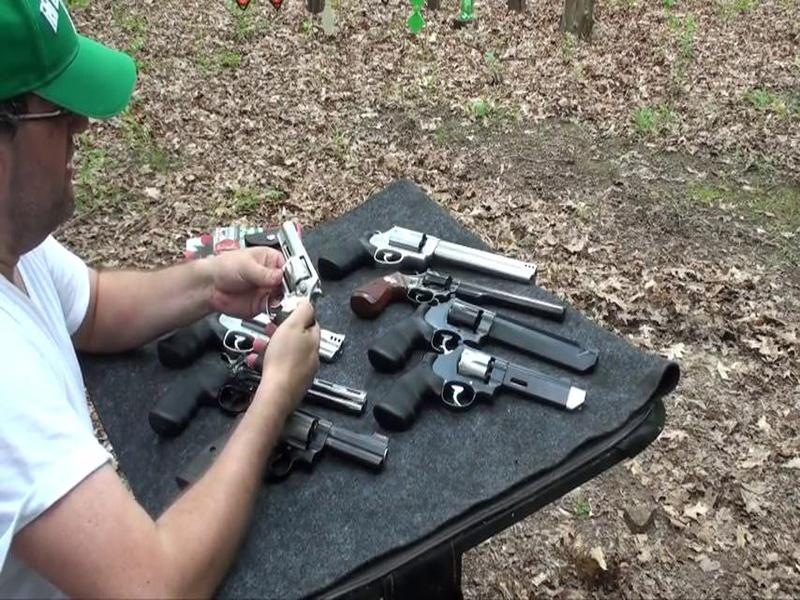Revolver: (256, 200, 343, 356)
